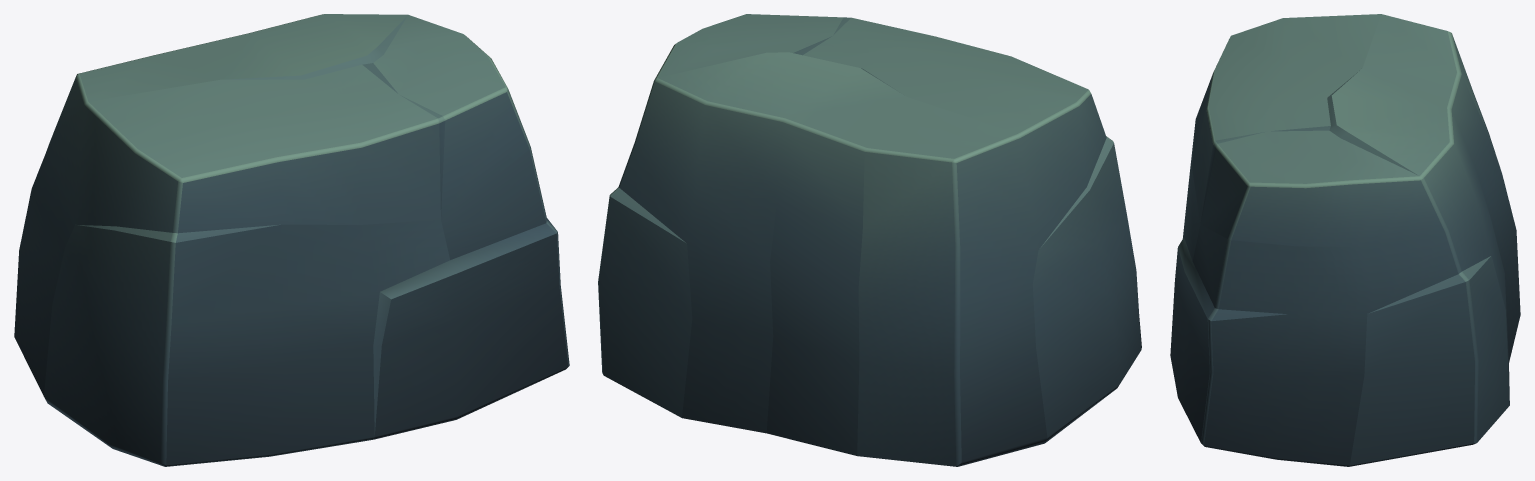
File: rock_large_01.fbx
The picture shows the model from 3 angles, left to right: view 1: azimuth 30°, elevation 25°; view 2: azimuth 150°, elevation 25°; view 3: azimuth 270°, elevation 25°; orthographic projection. The views are drawn at different scales.
Visible parts, largest first — view 1: rock_large_01; view 2: rock_large_01; view 3: rock_large_01.
Part boxes in pixels (bbox=[...]): rock_large_01: bbox=[14, 14, 569, 466]; rock_large_01: bbox=[598, 14, 1141, 466]; rock_large_01: bbox=[1170, 14, 1520, 466].
Size of the model in its own units: 2528 by 1746 by 1925.
